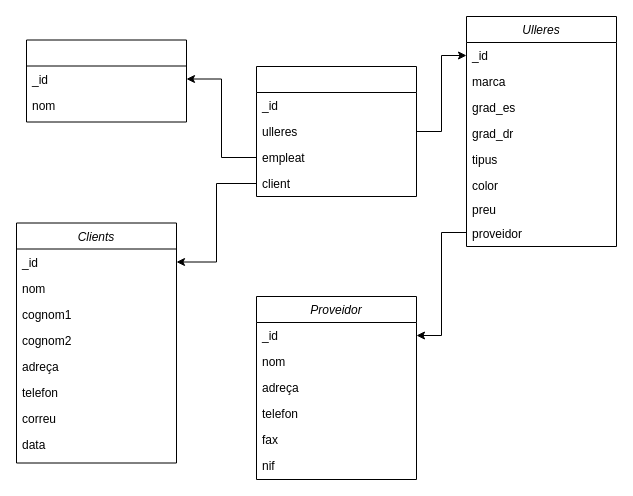
Some shapes in this 633 by 496 pixel diagram are drawn without their labels. Each missing label, with the box of its shape:
Empleats: (26, 39, 186, 122)
Ventes: (256, 66, 416, 196)
